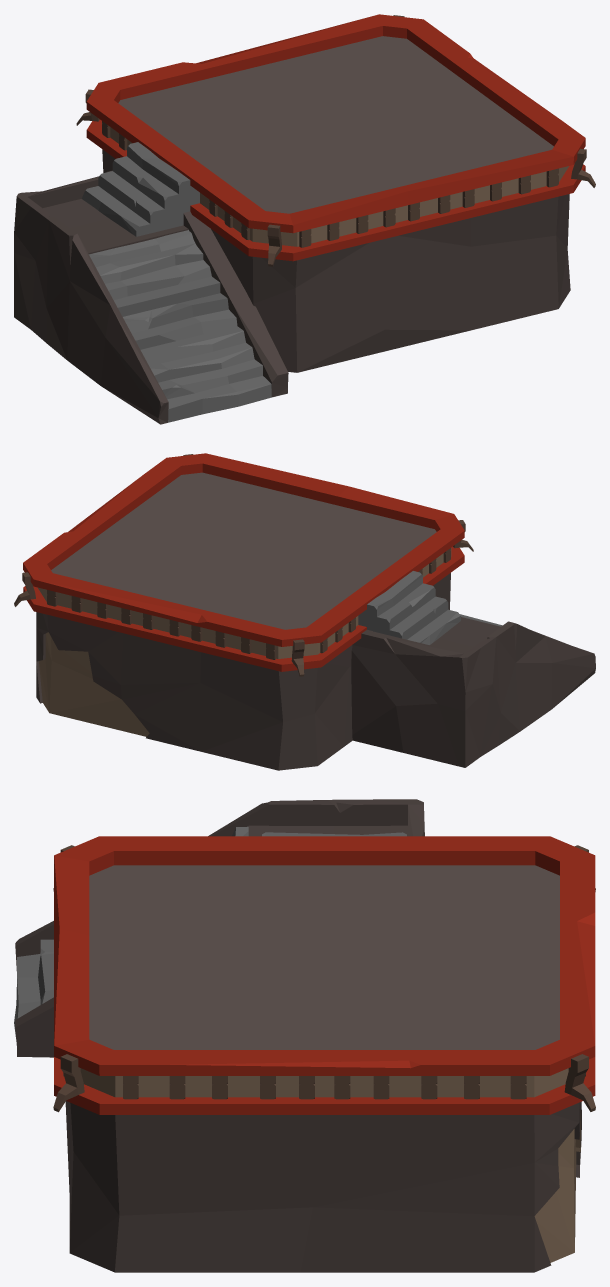
Rendered from Building_3.fbx.
3 renders of one model, top to bottom at view 1: azimuth 30°, elevation 25°; view 2: azimuth 150°, elevation 25°; view 3: azimuth 270°, elevation 25°, orthographic. The views are drawn at different scales.
Visible parts, largest first — view 1: Building_3; view 2: Building_3; view 3: Building_3.
Boxes of the visible parts, box(x1,y1,x2,y2) form: Building_3: box(14, 14, 595, 424); Building_3: box(14, 453, 595, 770); Building_3: box(14, 799, 595, 1272).
Bounding box in the file's own units: 9.38 × 3.08 × 7.39.
